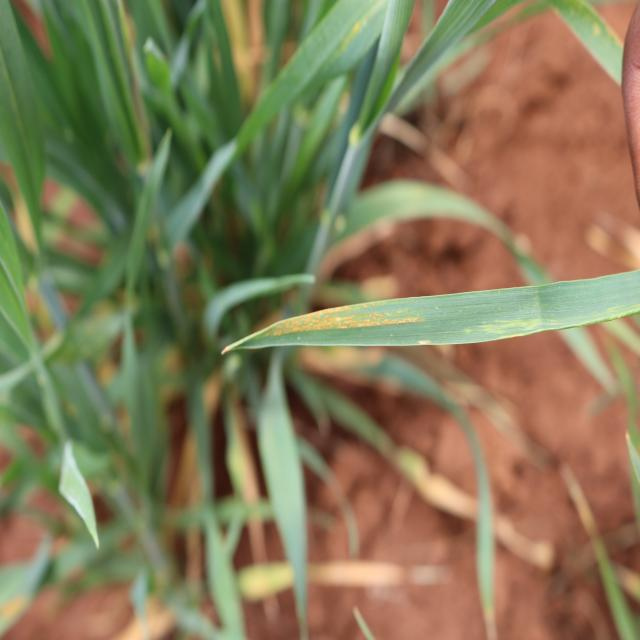Stripe Rust: (254, 308, 427, 332)
